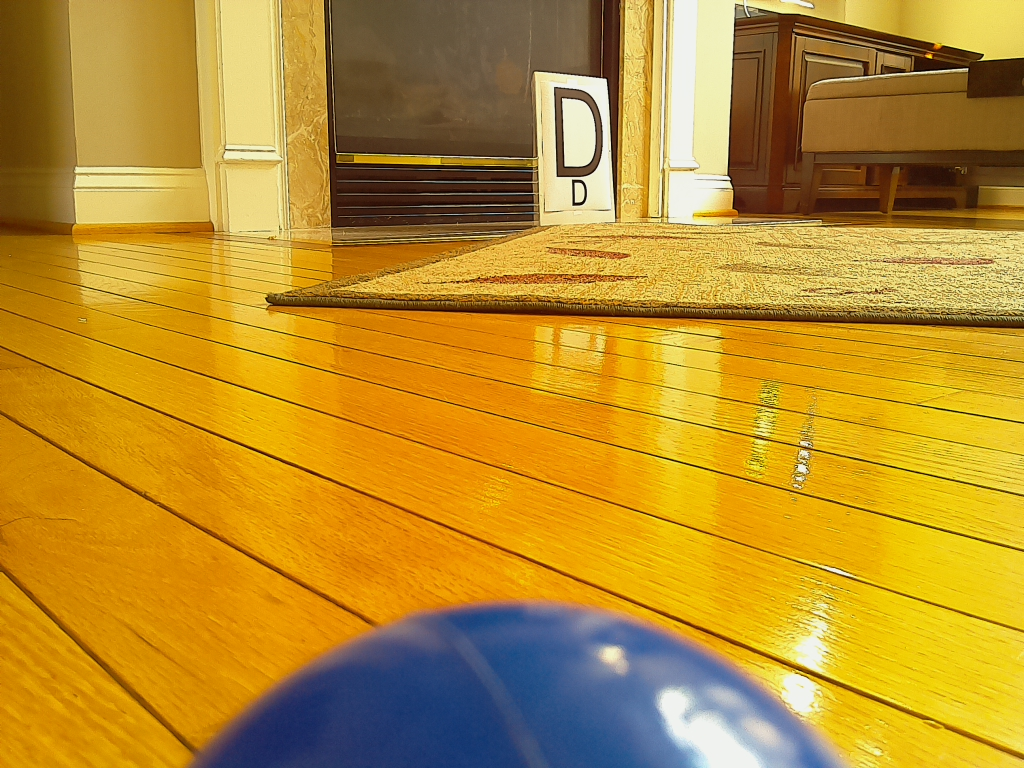letter: (558, 88, 603, 178)
